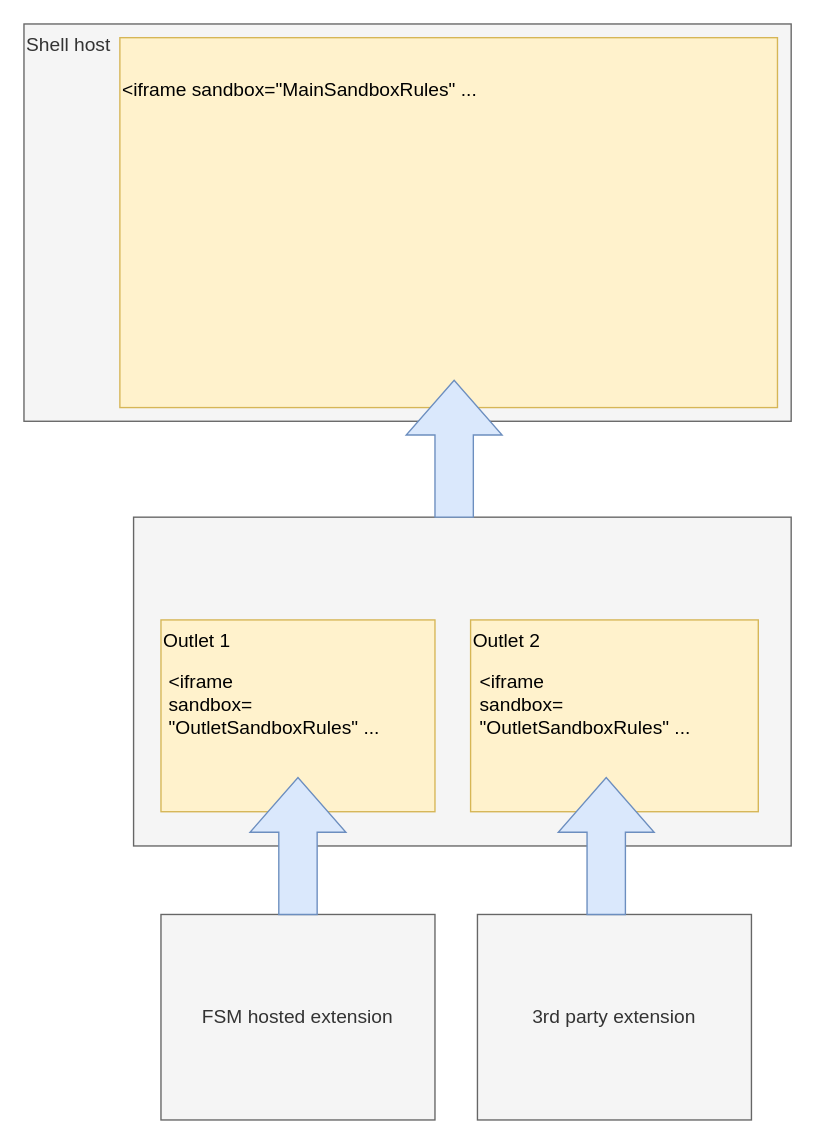
Some shapes in this 815 by 1144 pixel diagram are drawn without their labels. Each missing label, with the box of its shape:
Client application (FSM app or 3rd party extension): (132, 516, 791, 846)
Luigi Iframe: (119, 36, 777, 408)
